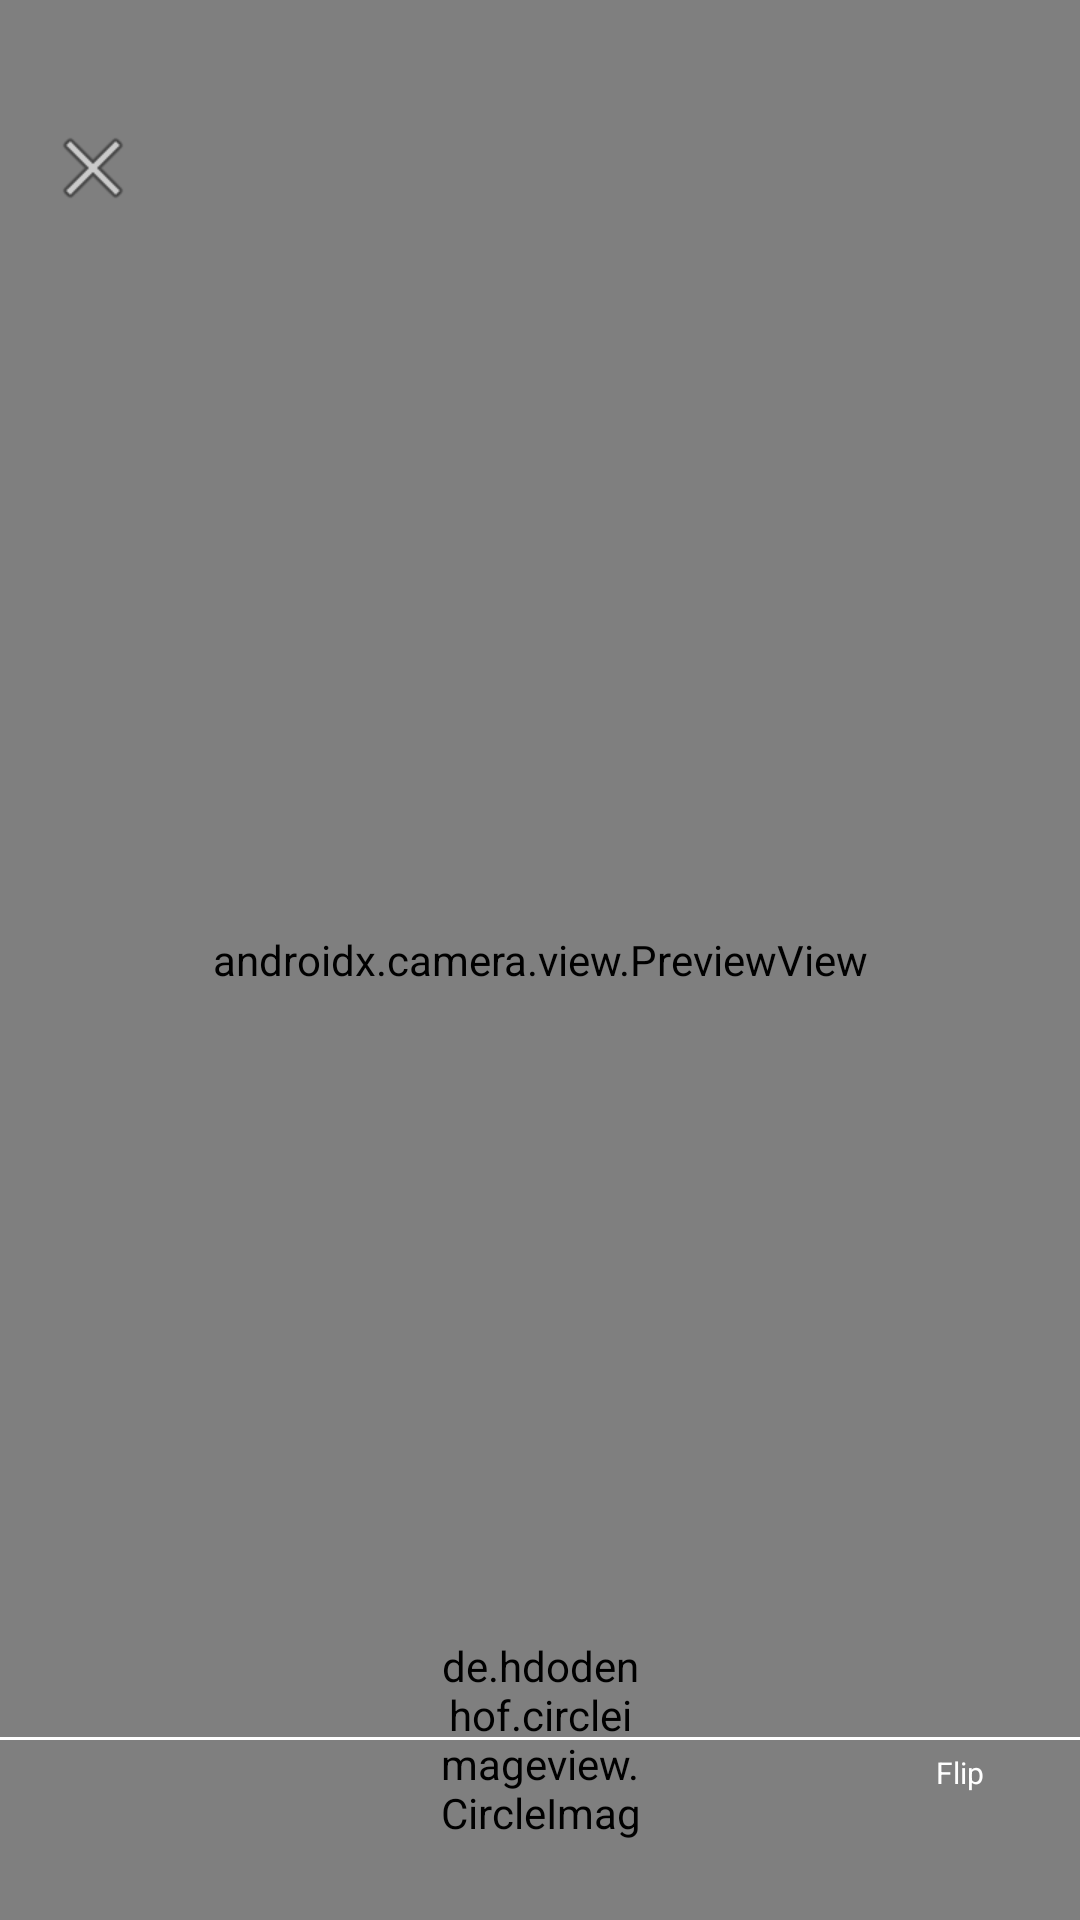

Named icons in this screenshot (1080x1920) and their bounding boxes, (x1, y1, x2, y2):
close clear cancel: (63, 138, 123, 198)
